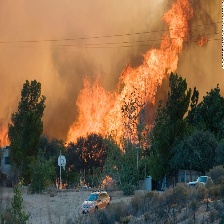fire: (61, 1, 193, 150)
smoke: (1, 3, 166, 69), (43, 65, 79, 130), (193, 3, 224, 56)
